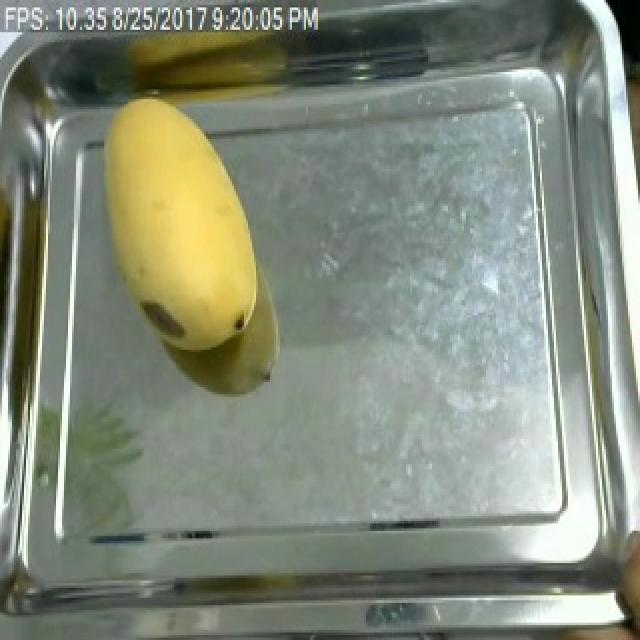fruit: (84, 84, 270, 370)
